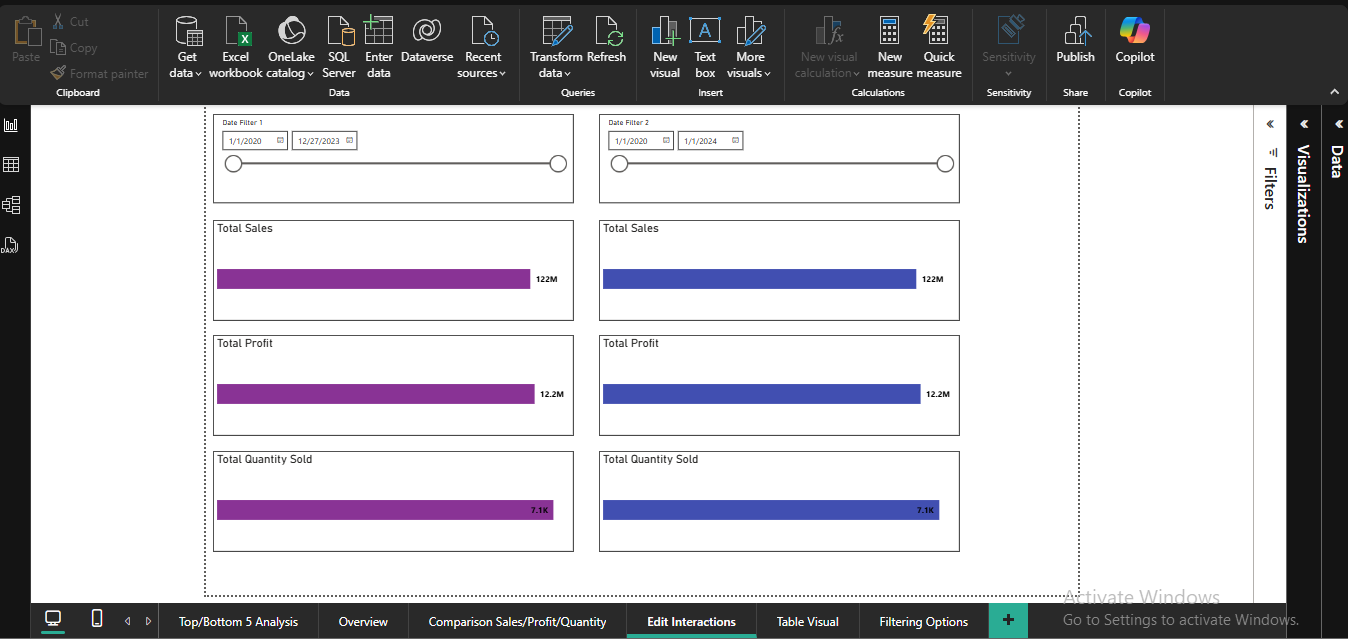

What the dashboard file says about the page in this screenshot:
{"tool":"powerbi","page":{"name":"Edit Interactions","canvas":[1280,720],"ordinal":3},"visuals":[{"type":"slicer","fields":{"Values":["Fact Table.Date (dd/mm/yyyy)"]},"box":[10.3,13.2,530.4,130.8],"z":0},{"type":"slicer","fields":{"Values":["Fact Table.Date (dd/mm/yyyy)"]},"box":[577.5,13.2,530.4,130.8],"z":1},{"type":"barChart","title":"Total Sales","fields":{"Y":["Sum(Fact Table.Net Sales)"]},"box":[10.3,169,530.4,148.4],"z":2},{"type":"barChart","title":"Total Profit","fields":{"Y":["Sum(Fact Table.Profit)"]},"box":[10.3,338,530.4,148.4],"z":3},{"type":"barChart","title":"Total Quantity Sold","fields":{"Y":["Sum(Fact Table.Units Sold)"]},"box":[10.3,508.4,530.4,148.4],"z":4},{"type":"barChart","title":"Total Sales","fields":{"Y":["Sum(Fact Table.Net Sales)"]},"box":[577.5,169,530.4,148.4],"z":5},{"type":"barChart","title":"Total Profit","fields":{"Y":["Sum(Fact Table.Profit)"]},"box":[577.5,338,530.4,148.4],"z":6},{"type":"barChart","title":"Total Quantity Sold","fields":{"Y":["Sum(Fact Table.Units Sold)"]},"box":[577.5,508.4,530.4,148.4],"z":7}]}

Visuals, with their boxes on the page's 1280x720 design canvas (x1, y1, x2, y2). These are canvas units, not pixel positions in the 1348x639 screenshot, which may show the page scaled, cropped or inside an application window:
slicer - Fact Table.Date (dd/mm/yyyy): box=[10, 13, 541, 144]
slicer - Fact Table.Date (dd/mm/yyyy): box=[578, 13, 1108, 144]
"Total Sales" barChart: box=[10, 169, 541, 317]
"Total Profit" barChart: box=[10, 338, 541, 486]
"Total Quantity Sold" barChart: box=[10, 508, 541, 657]
"Total Sales" barChart: box=[578, 169, 1108, 317]
"Total Profit" barChart: box=[578, 338, 1108, 486]
"Total Quantity Sold" barChart: box=[578, 508, 1108, 657]
